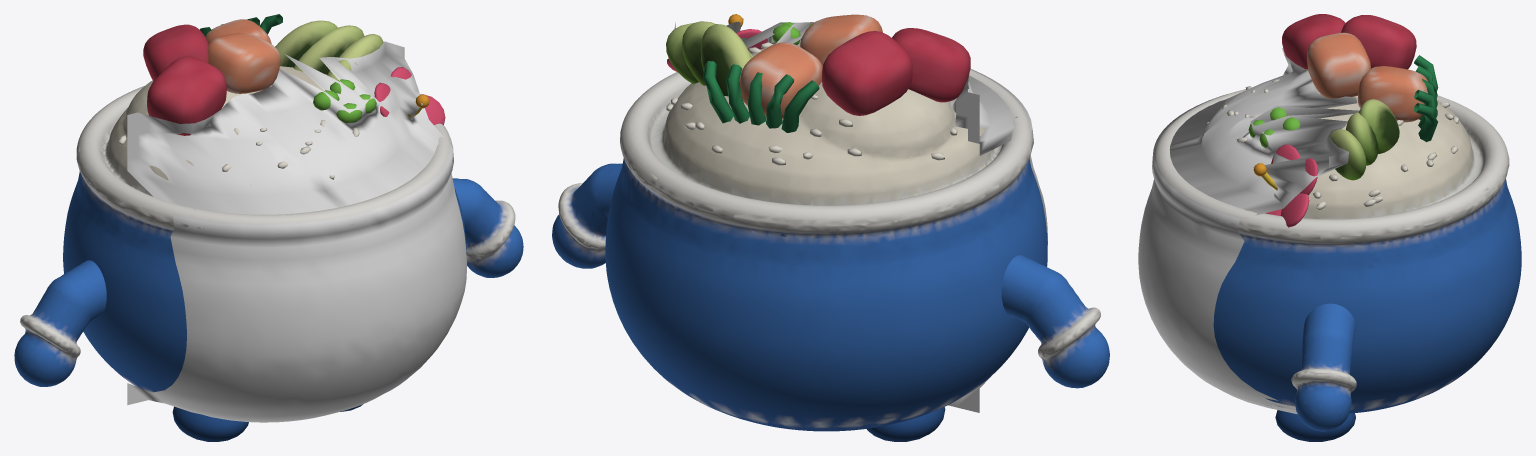
The model's file is folk2_kai.glb.
3 views of the same model, side by side, from view 1: azimuth 30°, elevation 25°; view 2: azimuth 150°, elevation 25°; view 3: azimuth 270°, elevation 25° (orthographic). The views are drawn at different scales.
Parts seen in each view (by area): view 1: kai_face, kai_body, kai_arm_l, kai_arm_r, kai_foot_l; view 2: kai_body, kai_arm_l, kai_face, kai_arm_r, kai_foot_l; view 3: kai_body, kai_face, kai_arm_r, kai_foot_r.
Part boxes in pixels (x1,y1,x2,y2): kai_face: [127, 41, 466, 422]; kai_body: [63, 14, 466, 392]; kai_arm_l: [14, 260, 106, 386]; kai_arm_r: [452, 178, 523, 277]; kai_foot_l: [172, 406, 248, 441]; kai_body: [605, 14, 1047, 431]; kai_arm_l: [1001, 255, 1109, 388]; kai_face: [674, 18, 1047, 412]; kai_arm_r: [552, 163, 622, 268]; kai_foot_l: [867, 407, 945, 441]; kai_body: [1156, 14, 1521, 413]; kai_face: [1138, 48, 1358, 414]; kai_arm_r: [1291, 303, 1356, 431]; kai_foot_r: [1275, 410, 1355, 441].
Size of the model in its own units: 1.48 by 1.08 by 1.04.
